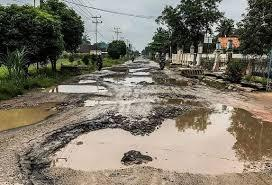Pothole: (34, 102, 272, 178), (92, 61, 198, 85), (0, 90, 56, 132), (50, 76, 112, 99), (203, 75, 239, 94)
